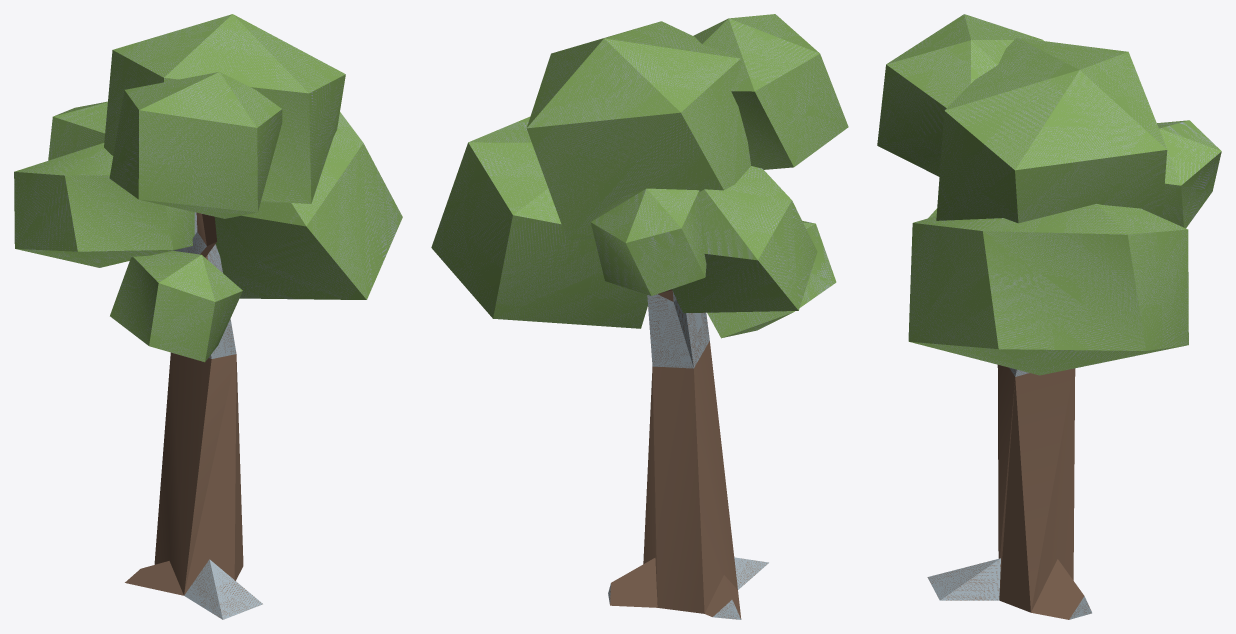
Rendered from Tree_Gum_04.fbx.
3 renders of one model, left to right at view 1: azimuth 30°, elevation 25°; view 2: azimuth 150°, elevation 25°; view 3: azimuth 270°, elevation 25°, orthographic. The views are drawn at different scales.
Visible parts, largest first — view 1: Model; view 2: Model; view 3: Model.
Part boxes in pixels (x1=…): Model: x1=14, y1=14, x2=402, y2=619; Model: x1=431, y1=14, x2=848, y2=619; Model: x1=877, y1=14, x2=1221, y2=619.
Size of the model in its own units: 443 by 675 by 384.
